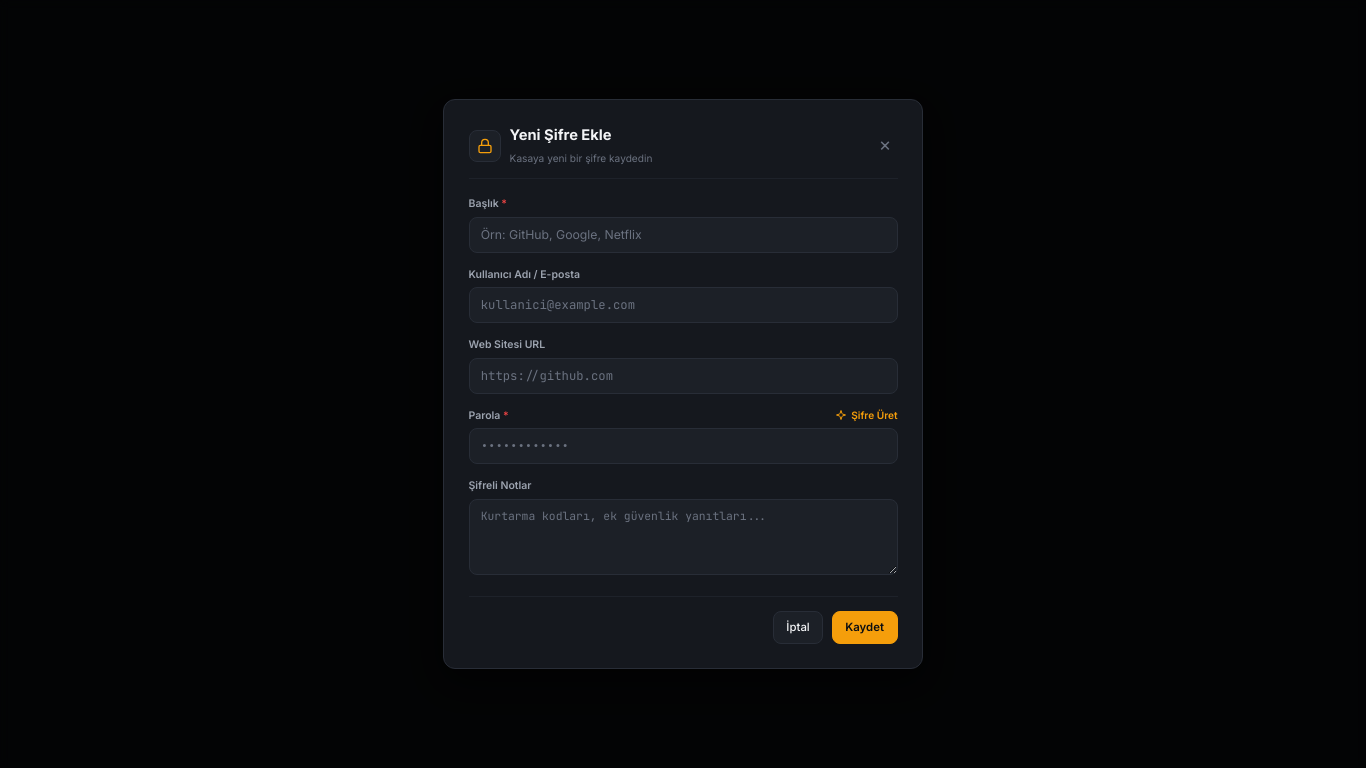
PasswordFormModal Component › validates required Title field
Click the button "Kaydet" at (865, 627), box [832, 611, 898, 644]
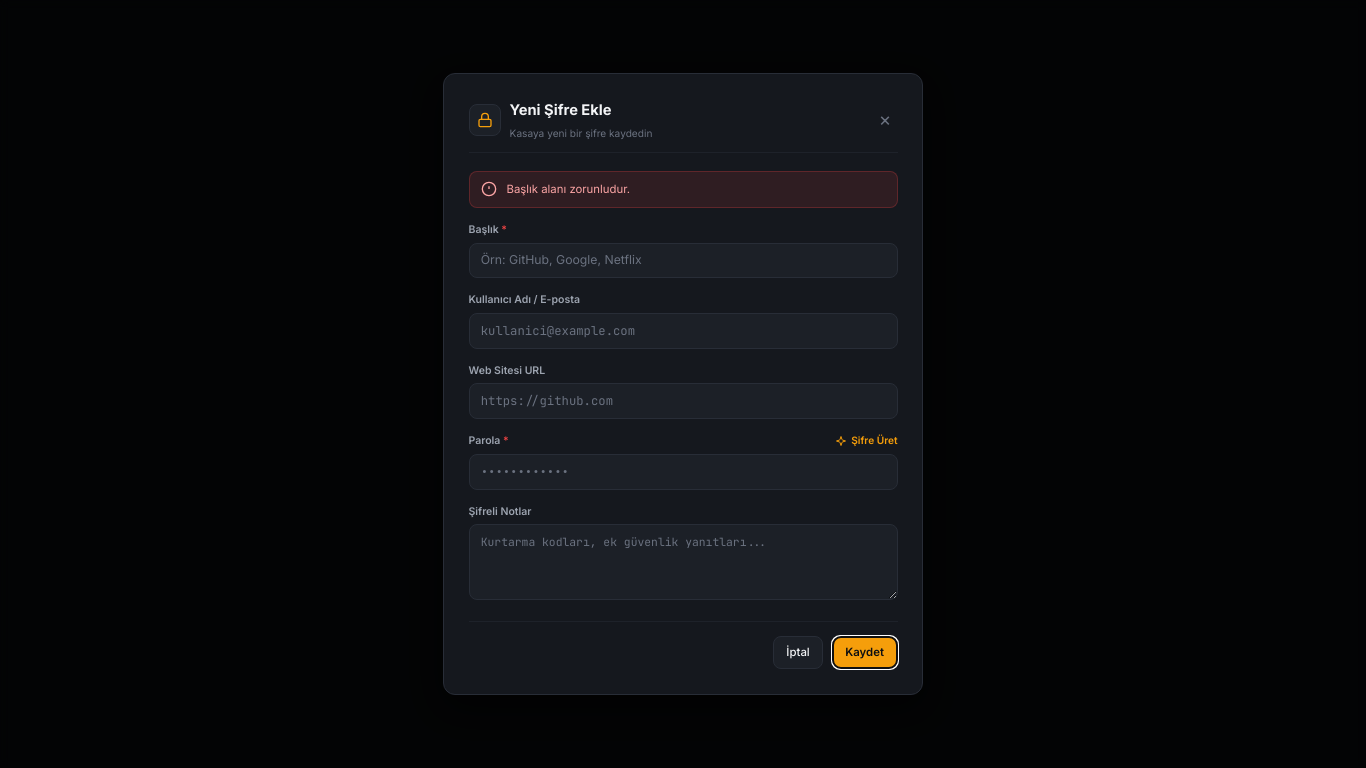
Now the text "Başlık alanı zorunludur." is shown, box [506, 181, 630, 198]
